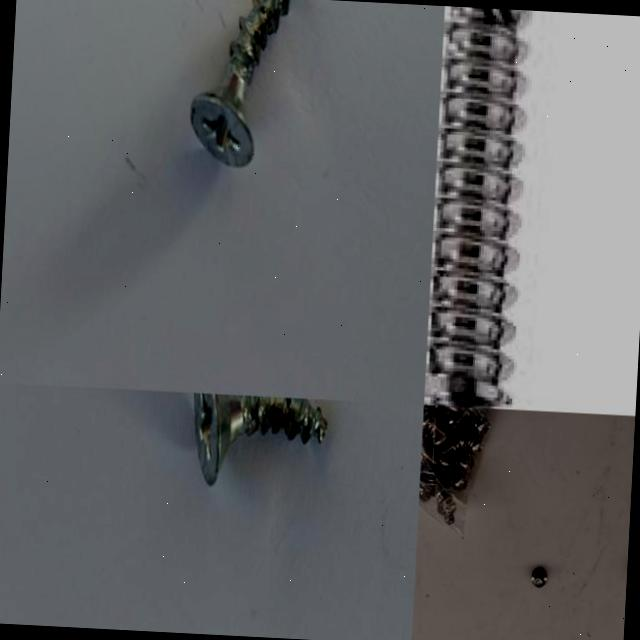Screw: (424, 6, 532, 409), (191, 0, 291, 168), (194, 393, 327, 487), (530, 566, 552, 592)
